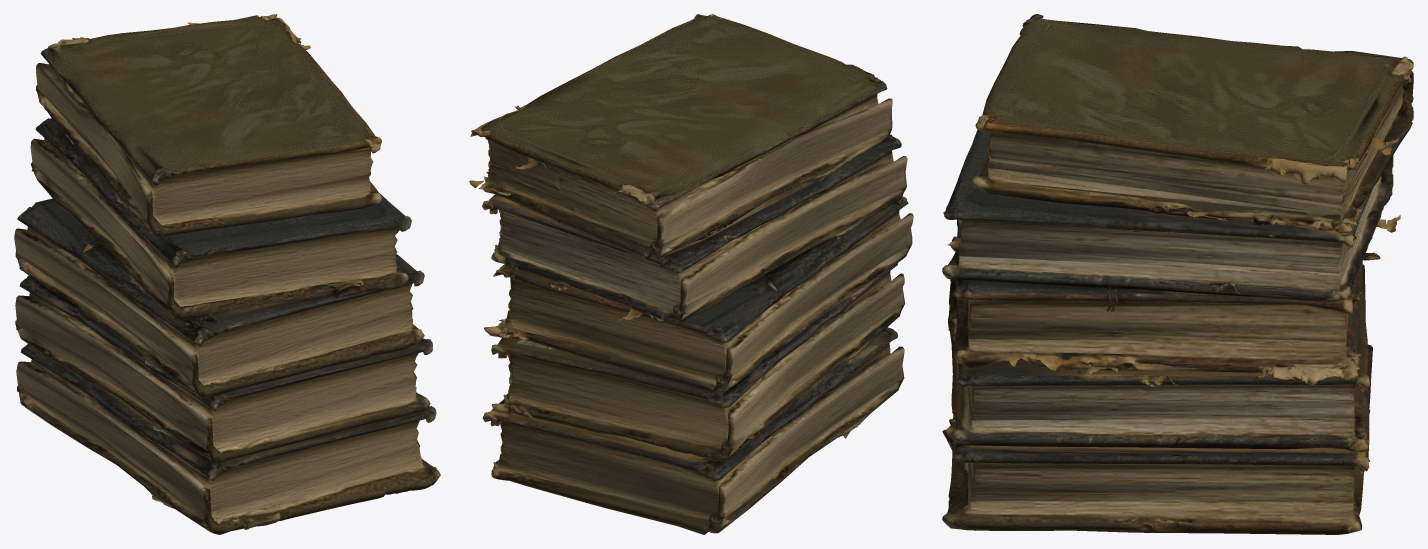
The picture shows the model from 3 angles, left to right: view 1: azimuth 30°, elevation 25°; view 2: azimuth 150°, elevation 25°; view 3: azimuth 270°, elevation 25°; orthographic projection. The views are drawn at different scales.
Visible parts, largest first — view 1: tripo_node_ba57d47b-3864-4b5c-a891-13edbbaaa70e; view 2: tripo_node_ba57d47b-3864-4b5c-a891-13edbbaaa70e; view 3: tripo_node_ba57d47b-3864-4b5c-a891-13edbbaaa70e.
Part boxes in pixels (<box>): tripo_node_ba57d47b-3864-4b5c-a891-13edbbaaa70e: <box>14,14,440,534</box>; tripo_node_ba57d47b-3864-4b5c-a891-13edbbaaa70e: <box>469,14,913,534</box>; tripo_node_ba57d47b-3864-4b5c-a891-13edbbaaa70e: <box>942,14,1413,534</box>.
Size of the model in its own units: 0.7637 by 0.916 by 0.998.
Materials: 1 (1 with a texture image).
